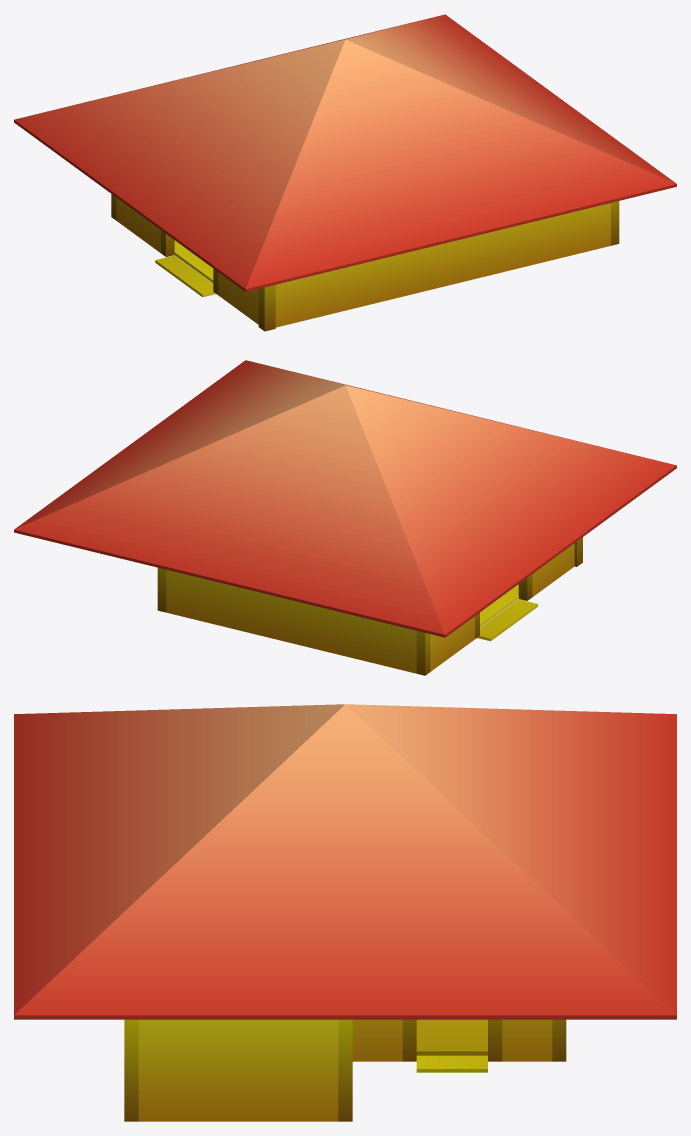
Rendered from SM_Lao_House(Old).fbx.
The picture shows the model from 3 angles, top to bottom: view 1: azimuth 30°, elevation 25°; view 2: azimuth 150°, elevation 25°; view 3: azimuth 270°, elevation 25°; orthographic projection. The views are drawn at different scales.
Parts seen in each view (by area): view 1: Roof, Main_floor_1; view 2: Roof, Main_floor_1; view 3: Roof, Main_floor_1.
Boxes of the visible parts, x1,y1,x2,y2 form: Roof: (14, 14, 676, 291); Main_floor_1: (111, 194, 619, 331); Roof: (14, 360, 676, 637); Main_floor_1: (157, 537, 582, 675); Roof: (14, 704, 676, 1019); Main_floor_1: (124, 1019, 566, 1121).
Bounding box in the file's own units: 1000 × 440 × 930.
